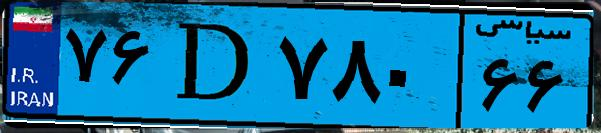0: (385, 28, 445, 110)
6: (475, 38, 525, 113), (525, 38, 570, 115), (110, 28, 158, 98)
7: (270, 28, 330, 110), (57, 26, 110, 100)
8: (330, 28, 385, 110)
D: (158, 12, 270, 120)
